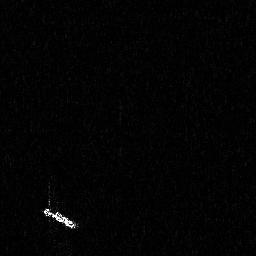ship: (40, 200, 83, 232)
